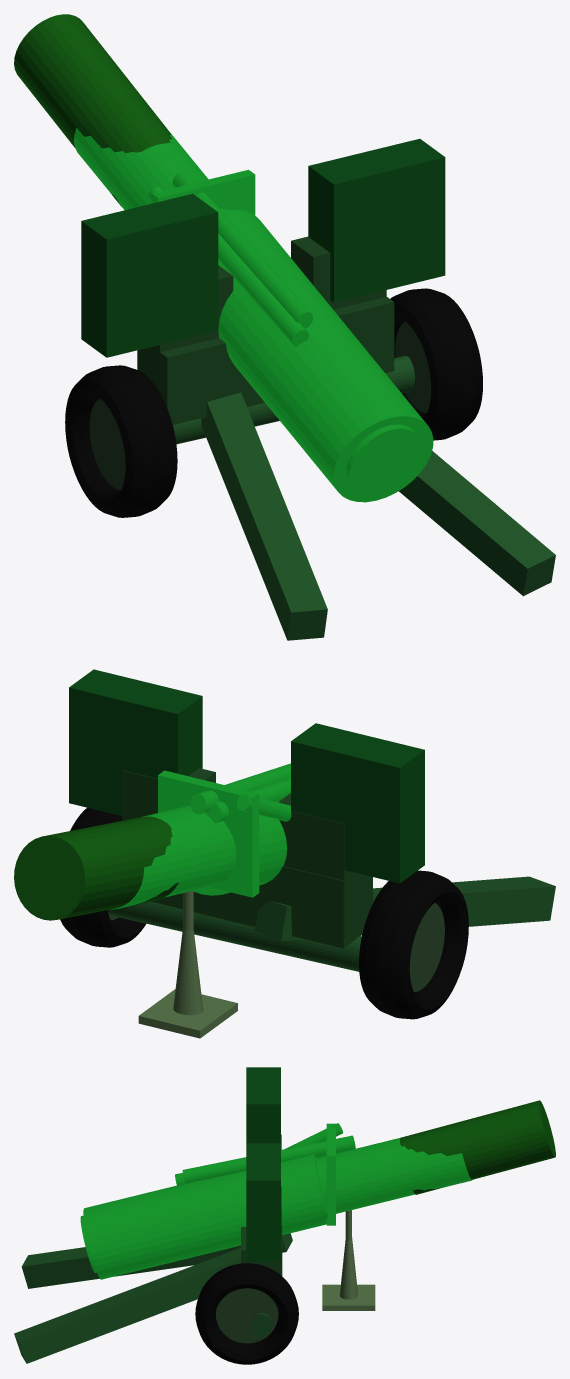
File: m144_155mm_howitzer.glb
3 renders of one model, top to bottom at view 1: azimuth 30°, elevation 25°; view 2: azimuth 150°, elevation 25°; view 3: azimuth 270°, elevation 25°, orthographic. The views are drawn at different scales.
Parts seen in each view (by area): view 1: 114 155mm howitzer; view 2: 114 155mm howitzer; view 3: 114 155mm howitzer.
Part boxes in pixels (x1,y1,x2,y2): 114 155mm howitzer: (14,14,555,640); 114 155mm howitzer: (14,669,555,1038); 114 155mm howitzer: (14,1067,555,1364).
Bounding box in the file's own units: 2.69 × 2.33 × 5.13.
